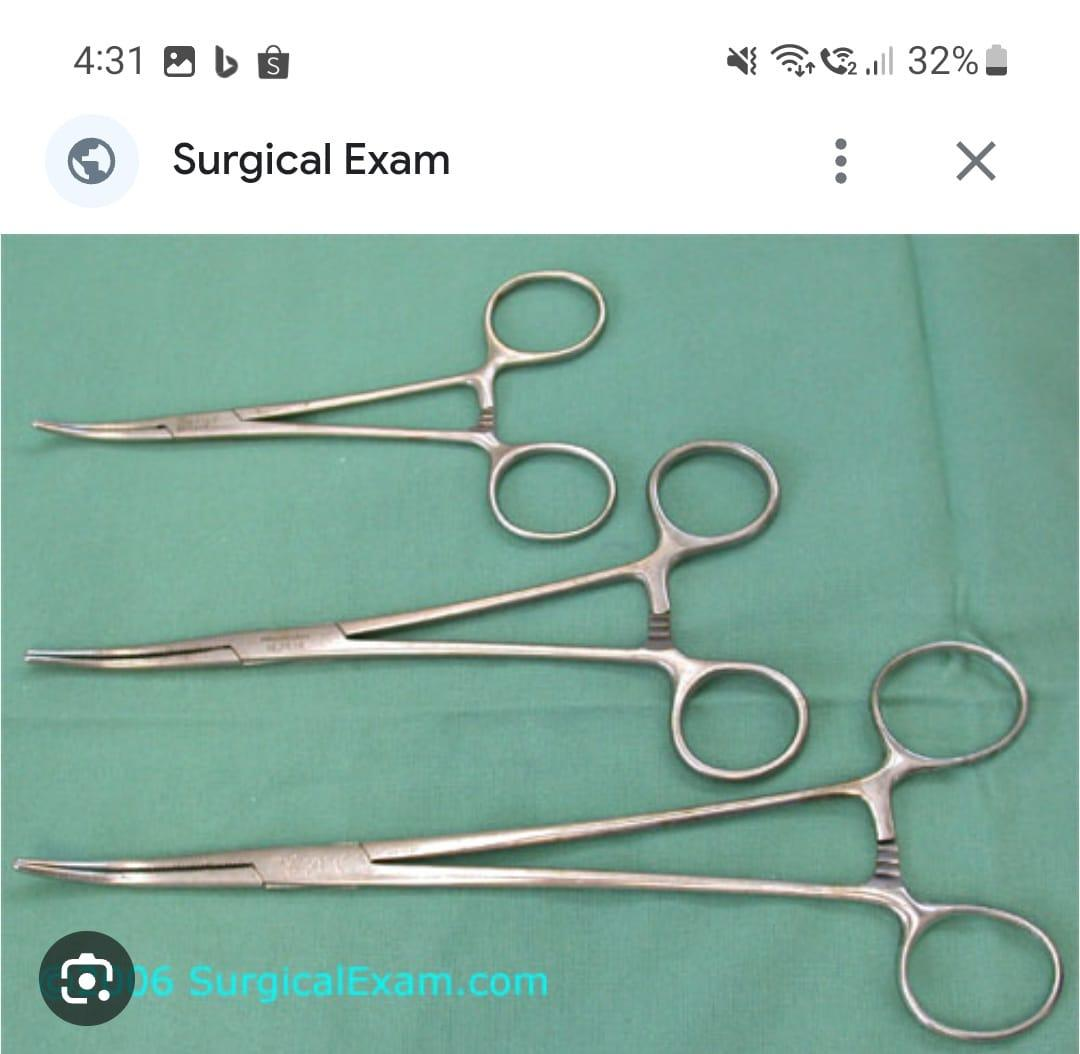Artery Forceps: (12, 637, 1078, 1054), (13, 428, 823, 798), (33, 277, 617, 547)
